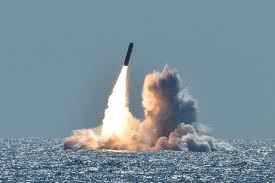ten_lua: (121, 38, 135, 79)
